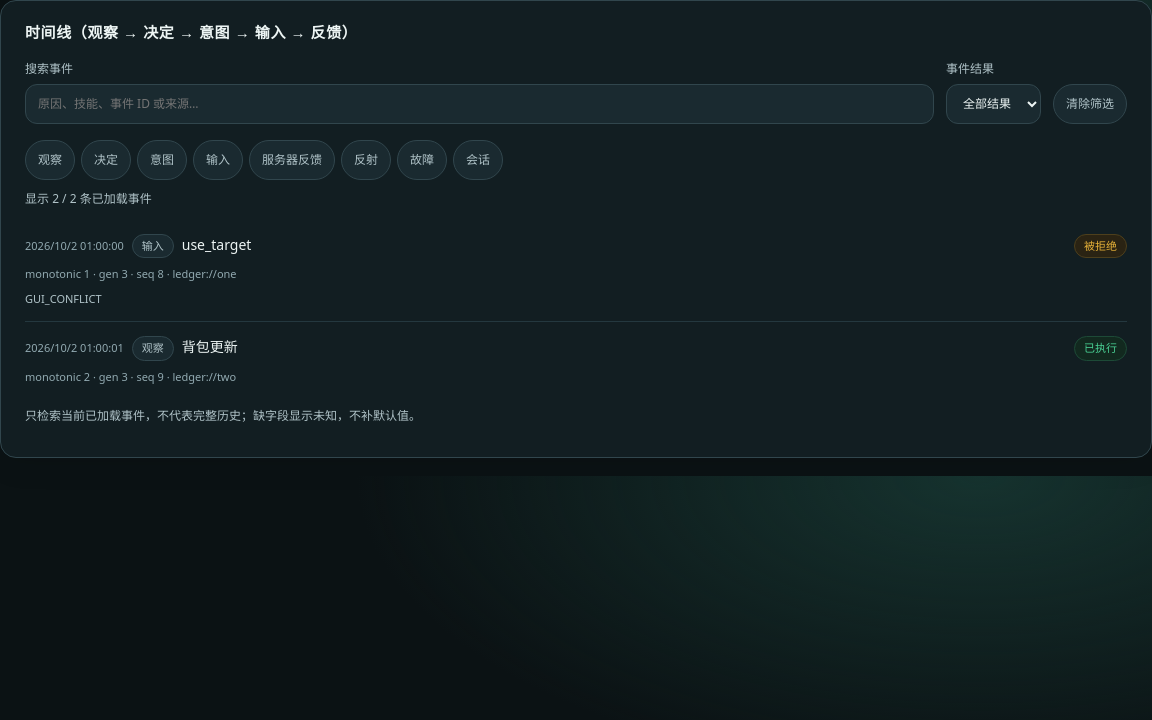
timeline investigation › combines result and kind filters without changing the source events
Select "被拒绝" in the dropdown labelled "事件结果" at (994, 104), box [946,84,1041,124]
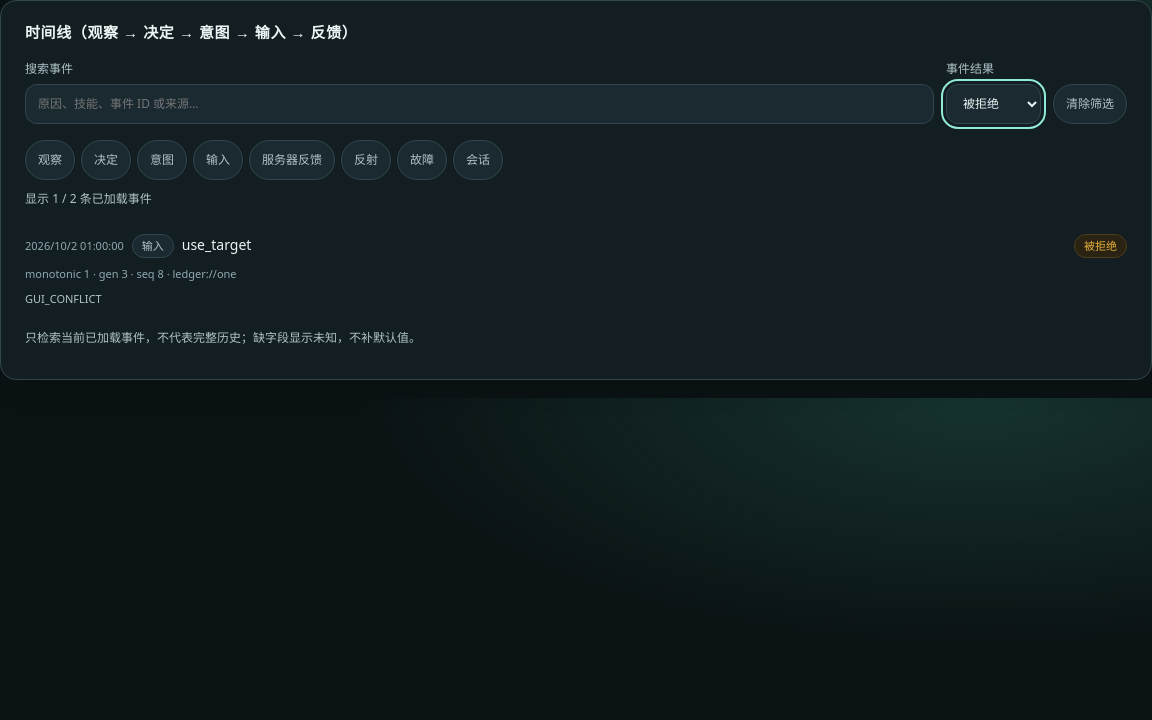
Expected: the text "use_target" is shown, [182,234,251,254]
Click the button "观察" at (50, 160), box [25,140,75,180]
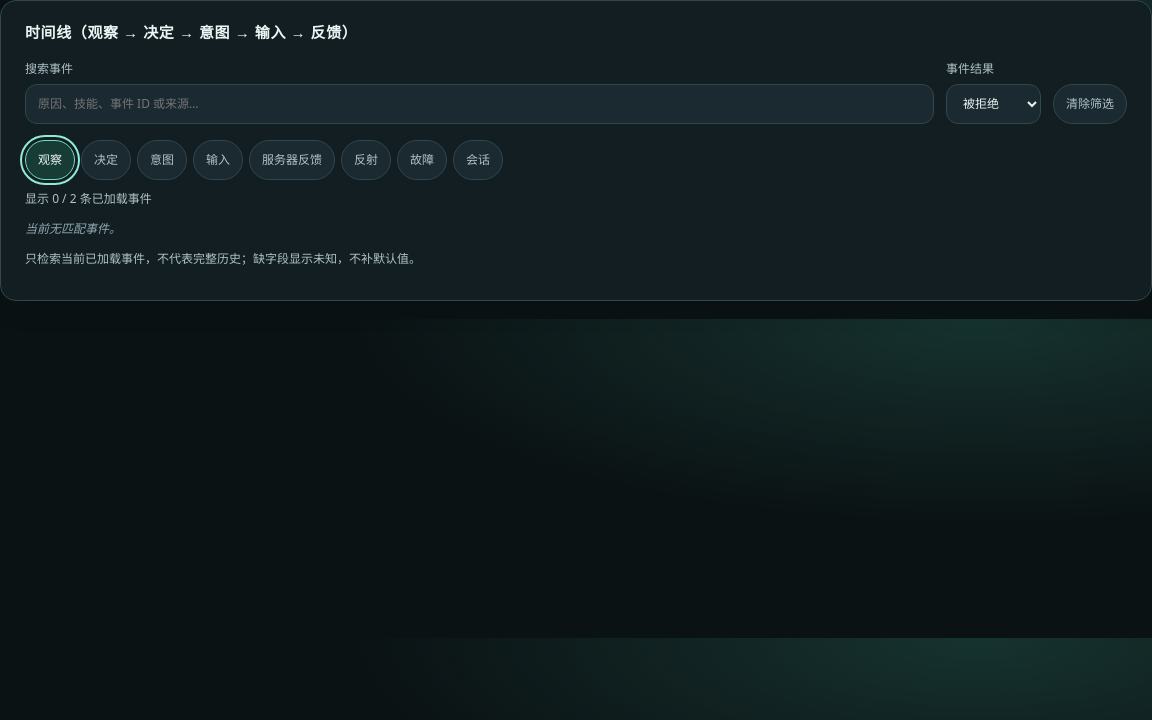
Result: the text "当前无匹配事件。" is shown at [25,220,121,236]
Click the button "清除筛选" at (1090, 104), box [1053,84,1127,124]
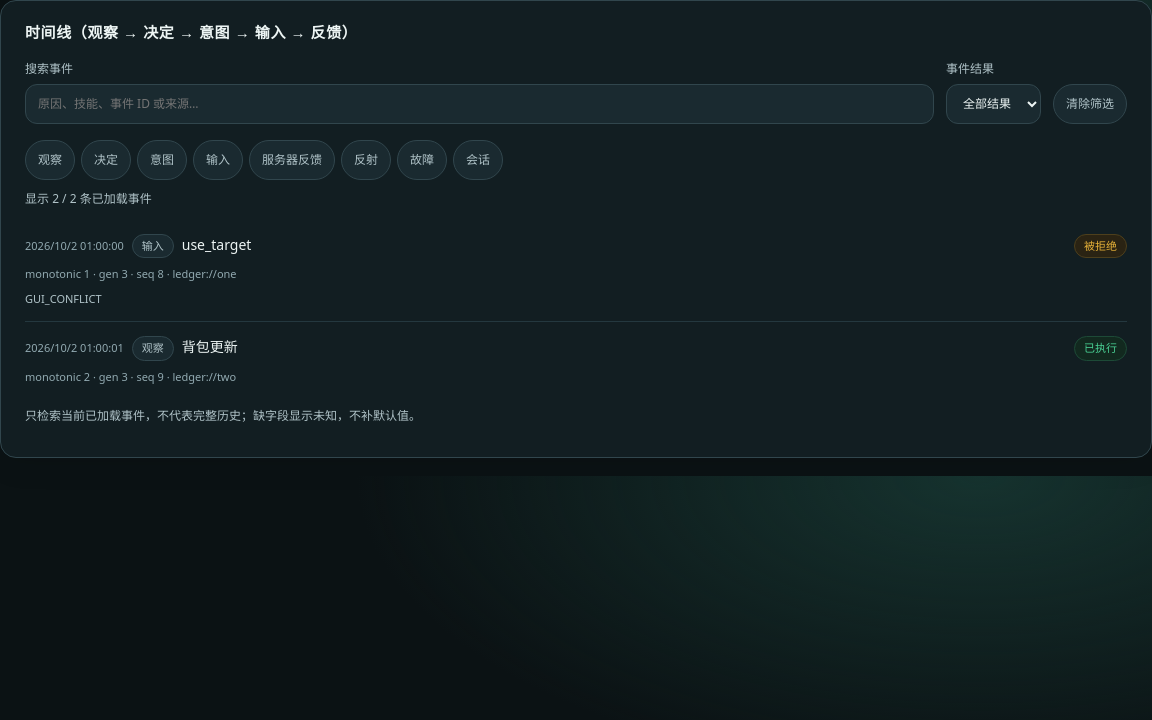
Result: the message shows "显示 2 / 2" at [25,190,152,206]
